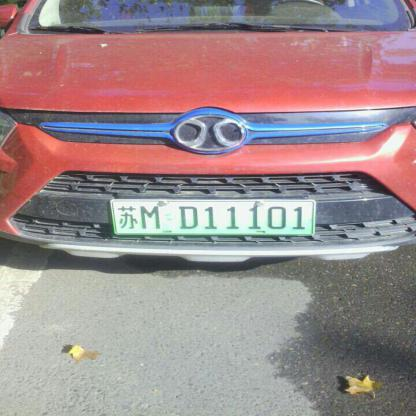lp: (110, 200, 314, 234)
